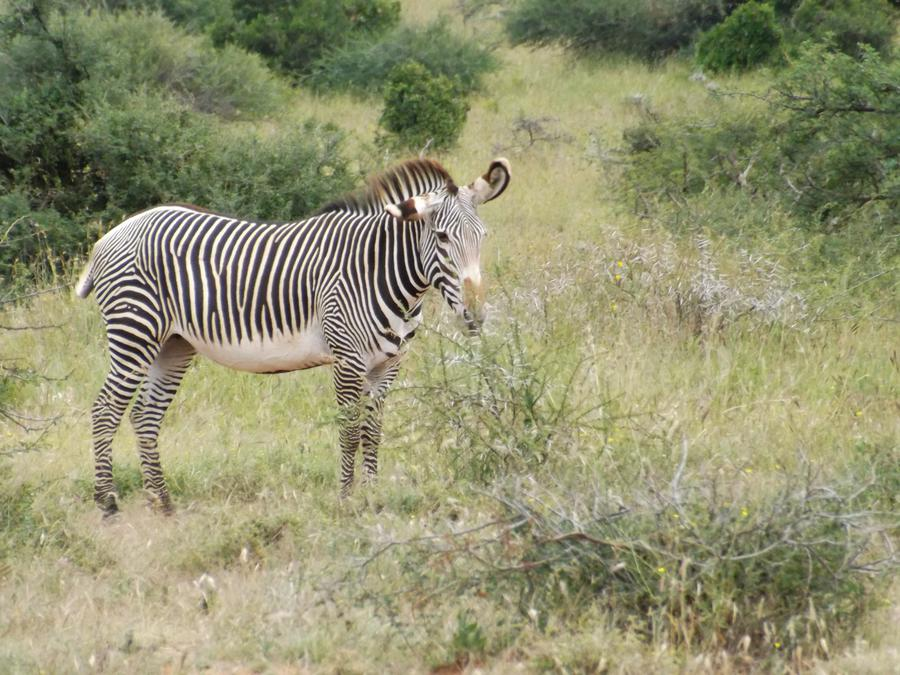zebra_grevys: (94, 197, 384, 379)
